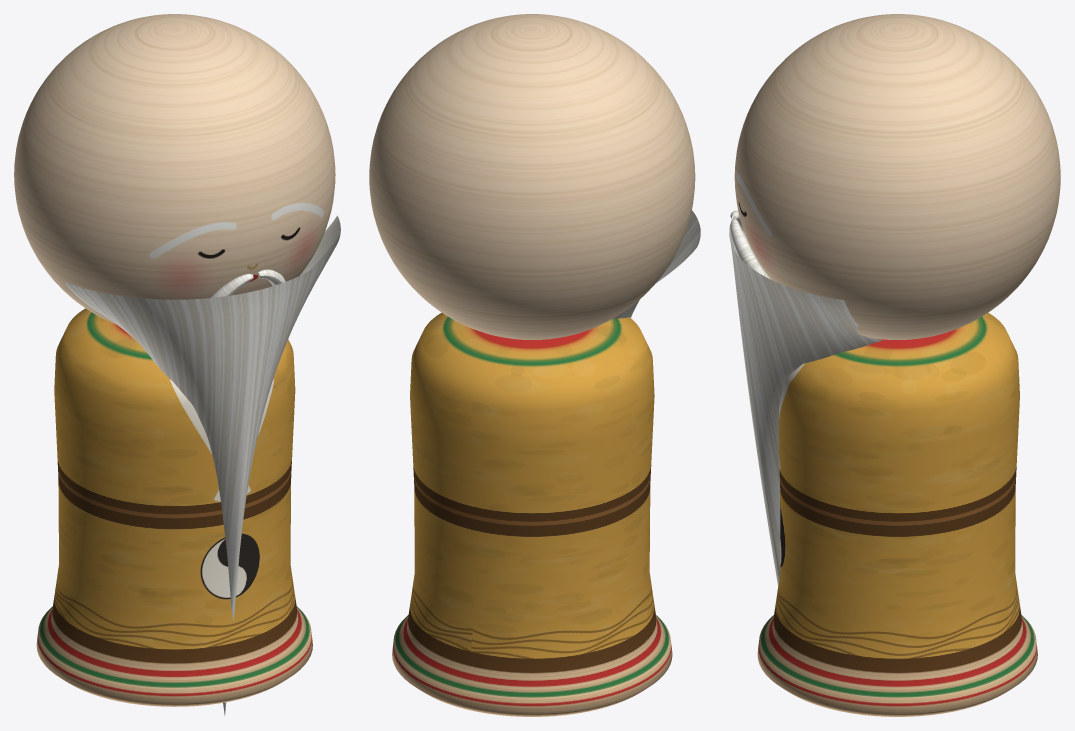
The model's file is laozi.glb.
3 views of the same model, side by side, from view 1: azimuth 30°, elevation 25°; view 2: azimuth 150°, elevation 25°; view 3: azimuth 270°, elevation 25° (orthographic).
Visible parts, largest first — view 1: body, head, Laozi; view 2: body, head, Laozi; view 3: body, head, Laozi.
Boxes of the visible parts, x1=… form: body: x1=36, y1=308, x2=312, y2=706; head: x1=14, y1=14, x2=335, y2=323; Laozi: x1=65, y1=215, x2=340, y2=715; body: x1=392, y1=312, x2=672, y2=716; head: x1=369, y1=14, x2=695, y2=339; Laozi: x1=612, y1=210, x2=700, y2=319; body: x1=757, y1=312, x2=1037, y2=716; head: x1=734, y1=14, x2=1060, y2=339; Laozi: x1=729, y1=210, x2=882, y2=585.
Size of the model in its own units: 0.075 by 0.1676 by 0.0763.
Materials: 5 (4 with a texture image).
